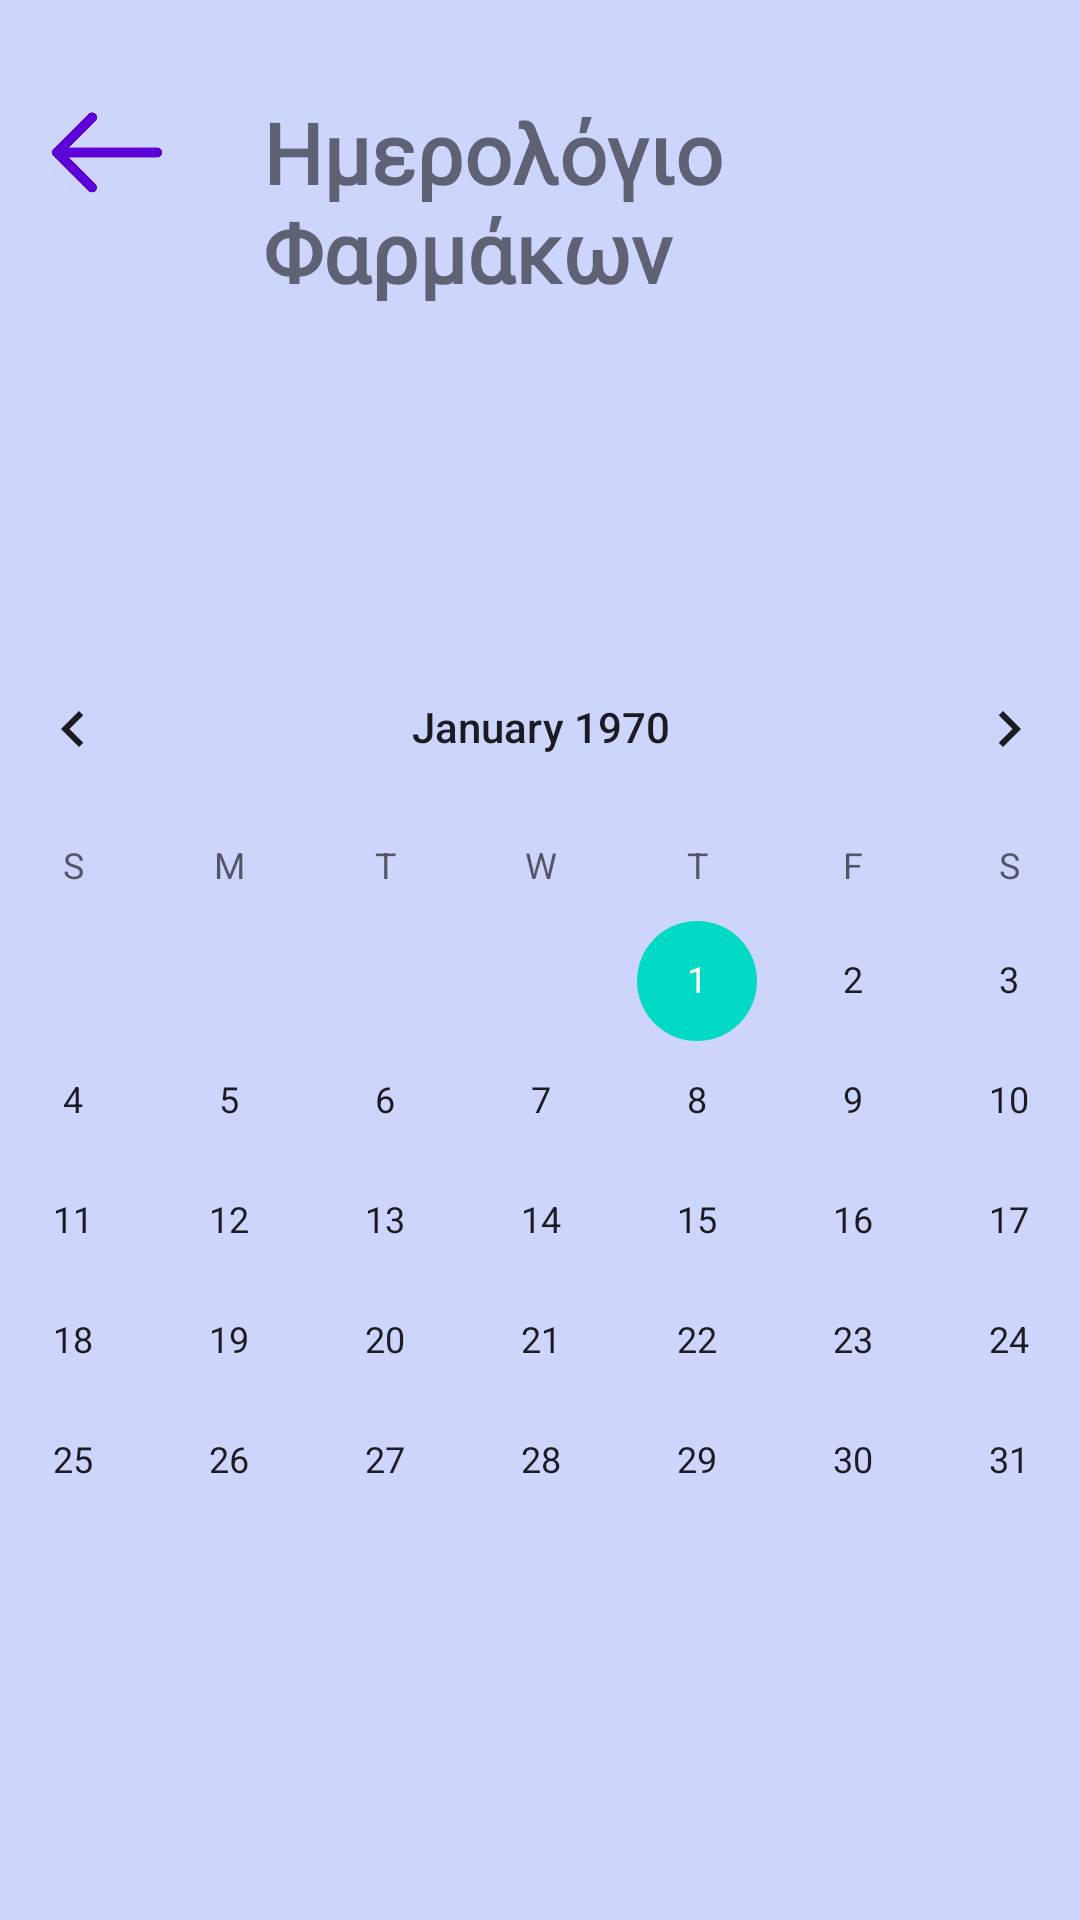

Named icons in this screenshot (1080px×1920px) and their bounding boxes, box=[x1, y1, x2, y2]:
back: box=[52, 112, 162, 193]
